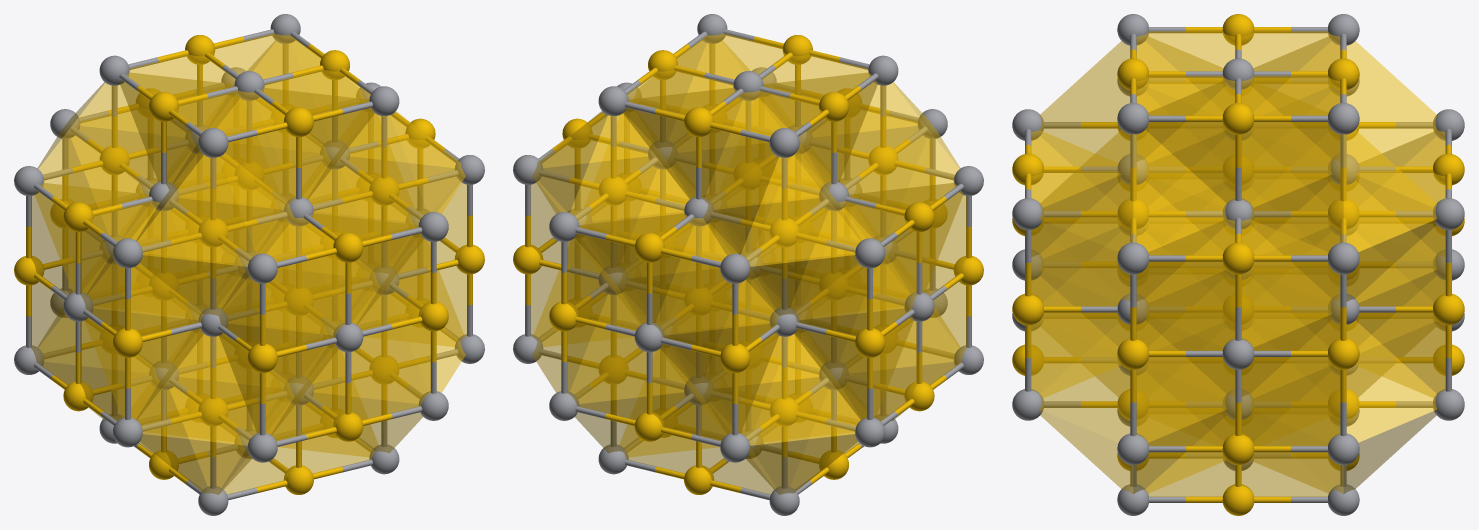
Rendered from pbte_structure.glb.
The picture shows the model from 3 angles, left to right: view 1: azimuth 30°, elevation 25°; view 2: azimuth 150°, elevation 25°; view 3: azimuth 270°, elevation 25°; orthographic projection. The views are drawn at different scales.
Visible parts, largest first — view 1: polyhedra, bonds, atoms; view 2: polyhedra, bonds, atoms; view 3: polyhedra, atoms, bonds.
Boxes of the visible parts, x1,y1,x2,y2 form: polyhedra: (30,33,467,494); bonds: (26,29,472,500); atoms: (14,14,484,515); polyhedra: (530,33,967,494); bonds: (525,29,971,500); atoms: (513,14,983,515); polyhedra: (1031,31,1445,496); atoms: (1012,14,1464,515); bonds: (1025,27,1451,502).
Bounding box in the file's own units: 14.08 × 14.08 × 14.08.
